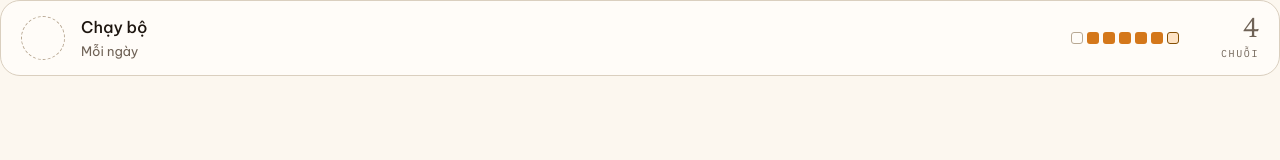
Scenario: HabitOverviewRow › explains when the request itself fails
Click the button named "Ghi dấu Chạy bộ": [43, 38] box [21, 16, 65, 60]
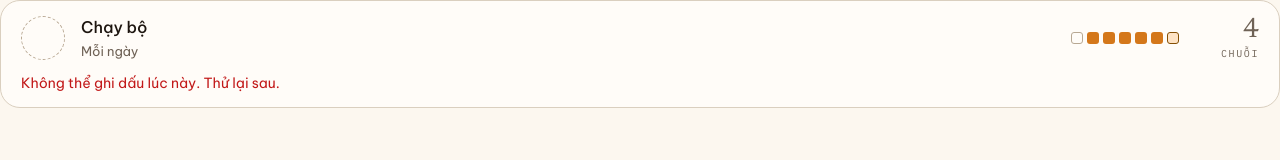
Expected: the message reads "Không thể ghi dấu lúc này. Thử lại sau.", [21, 74, 280, 92]
